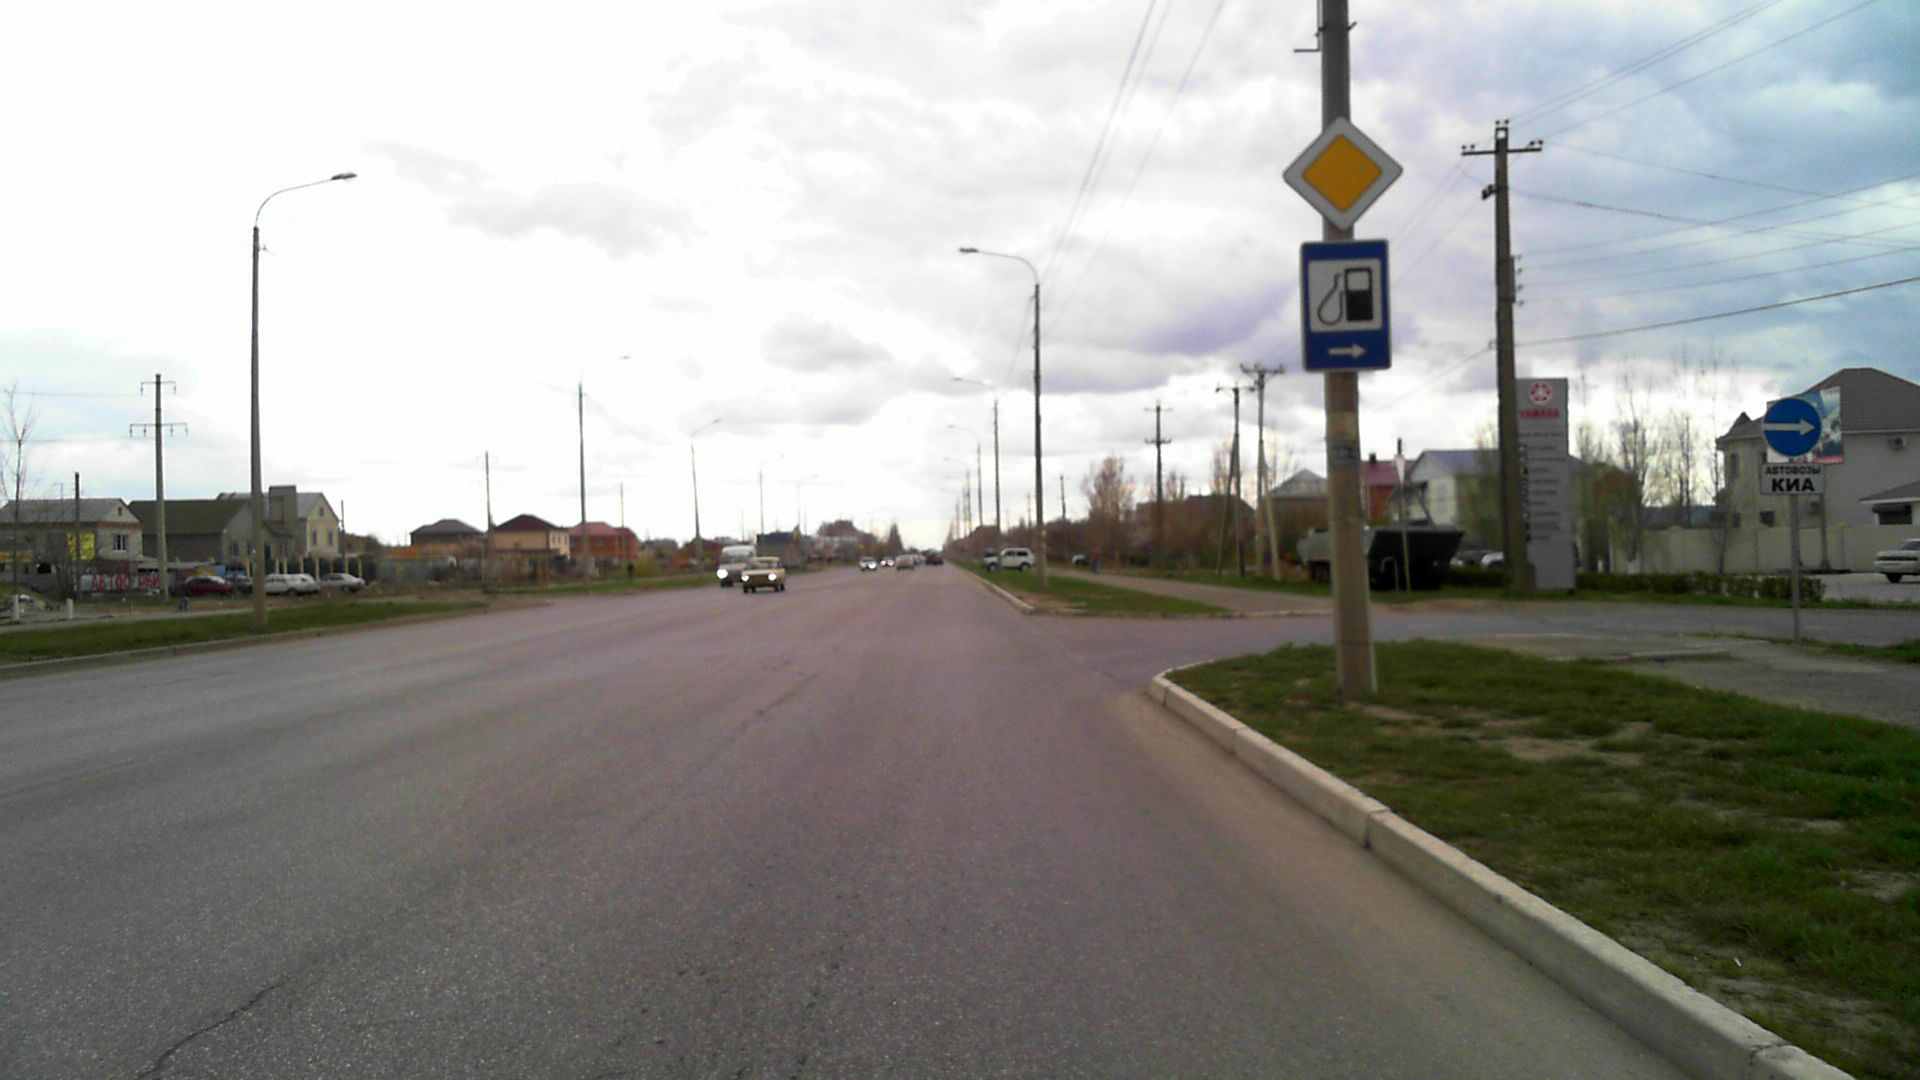Turn Right: (1762, 398, 1822, 458)
